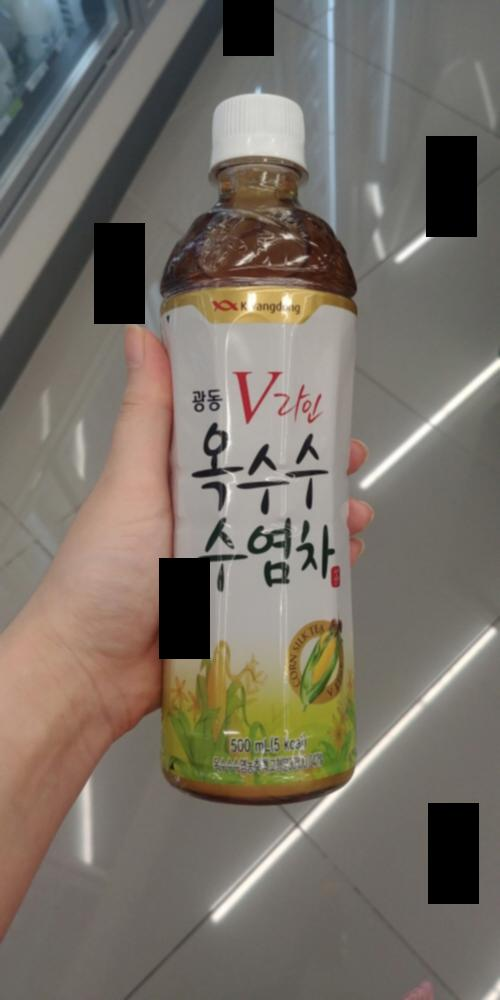oksususuyeomcha: (143, 80, 382, 830)
